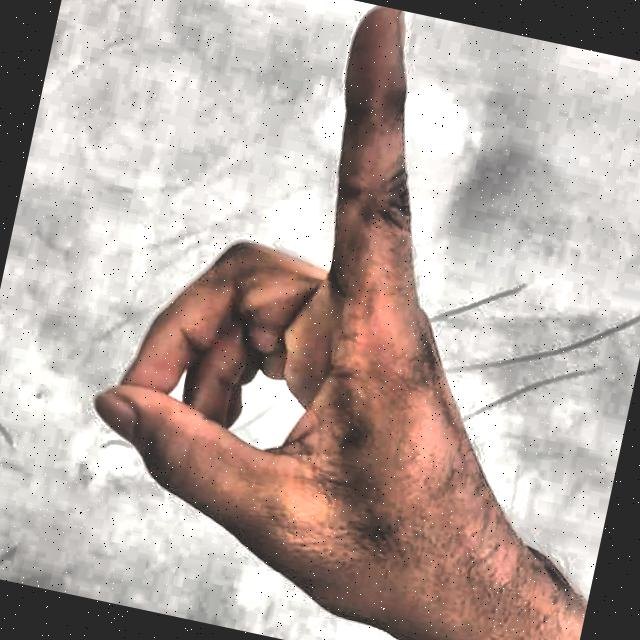Dha: (19, 0, 612, 640)
